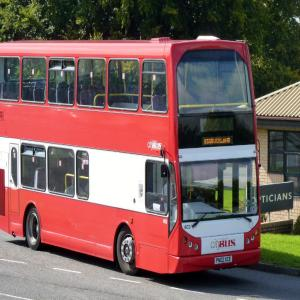Vehicle-registration-plate: (215, 258, 234, 265)
